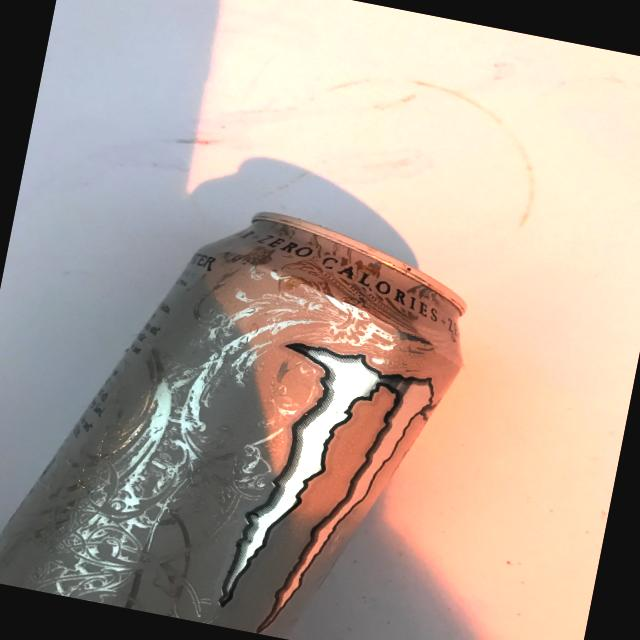Metal: (0, 149, 557, 640)
